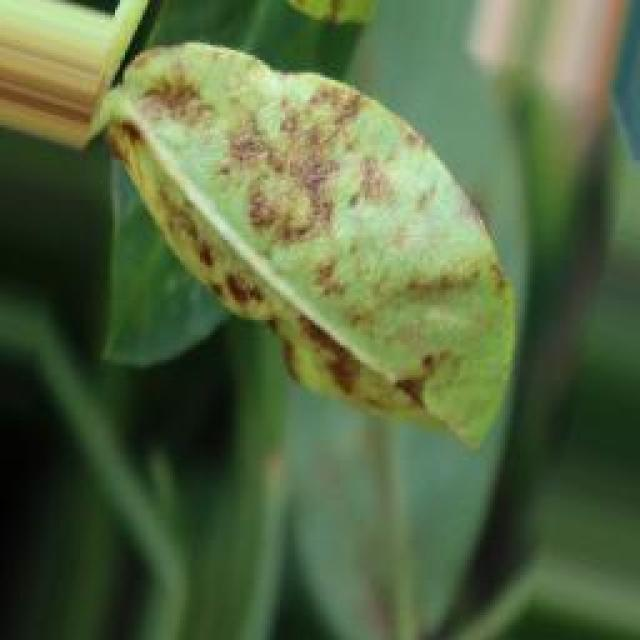Whitefly: (82, 0, 543, 417)
